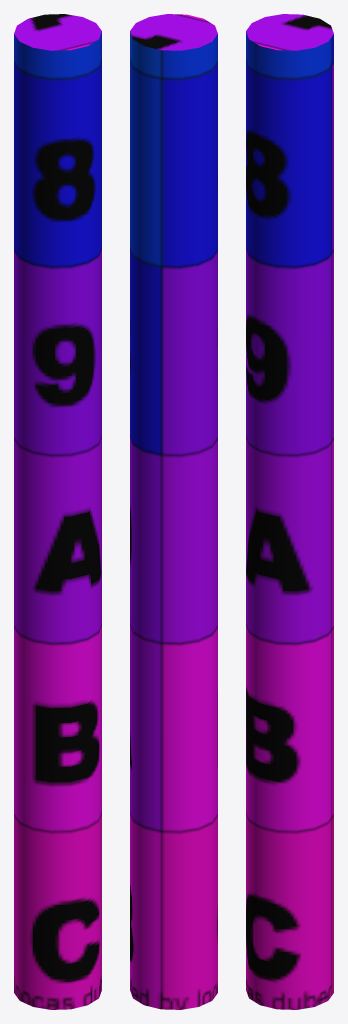
Rendered from SM_Module_Pillar_12.fbx.
The picture shows the model from 3 angles, left to right: view 1: azimuth 30°, elevation 25°; view 2: azimuth 150°, elevation 25°; view 3: azimuth 330°, elevation 25°; orthographic projection.
Visible parts, largest first — view 1: SM_Module_Pillar_12; view 2: SM_Module_Pillar_12; view 3: SM_Module_Pillar_12.
Part boxes in pixels (x1,y1,x2,y2): SM_Module_Pillar_12: [14, 14, 101, 1009]; SM_Module_Pillar_12: [130, 14, 217, 1009]; SM_Module_Pillar_12: [246, 14, 333, 1009].
Size of the model in its own units: 100 by 1200 by 97.49.
Materials: 1 (1 with a texture image).
